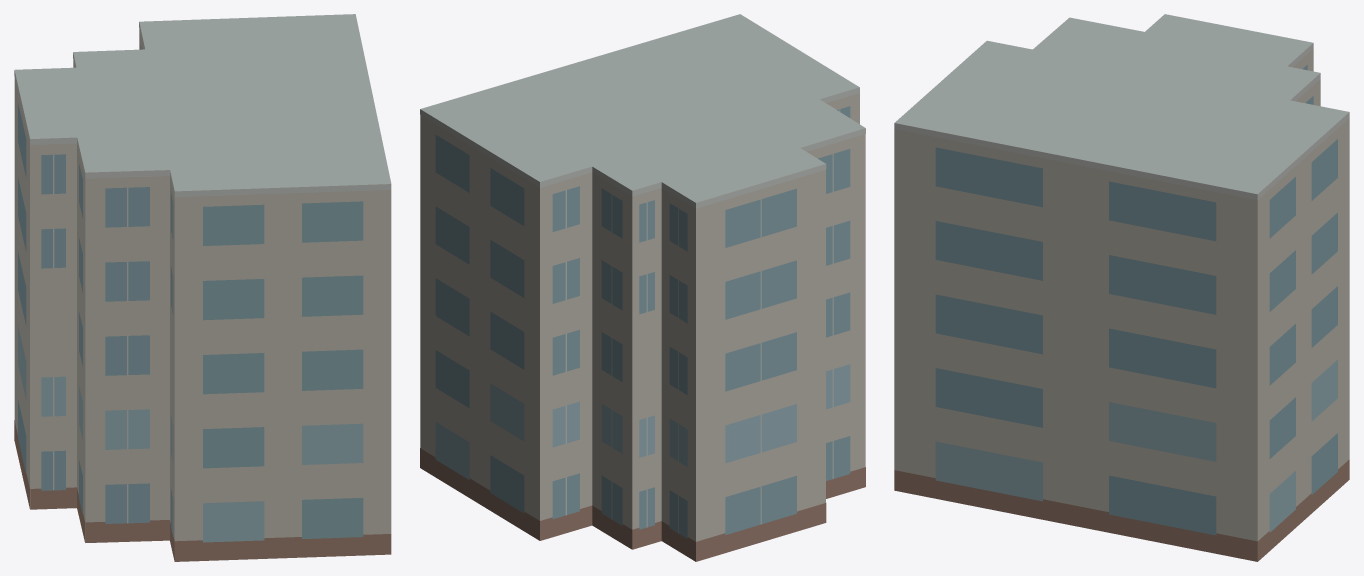
File: survey-upis-33023077.glb
3 renders of one model, left to right at view 1: azimuth 30°, elevation 25°; view 2: azimuth 150°, elevation 25°; view 3: azimuth 270°, elevation 25°, orthographic. The views are drawn at different scales.
Parts seen in each view (by area): view 1: survey-upis-33023077.tmp; view 2: survey-upis-33023077.tmp; view 3: survey-upis-33023077.tmp.
Boxes of the visible parts, x1,y1,x2,y2 form: survey-upis-33023077.tmp: (14, 14, 391, 561); survey-upis-33023077.tmp: (420, 14, 865, 561); survey-upis-33023077.tmp: (894, 14, 1349, 561).
Bounding box in the file's own units: 16.05 × 15.25 × 17.13.
